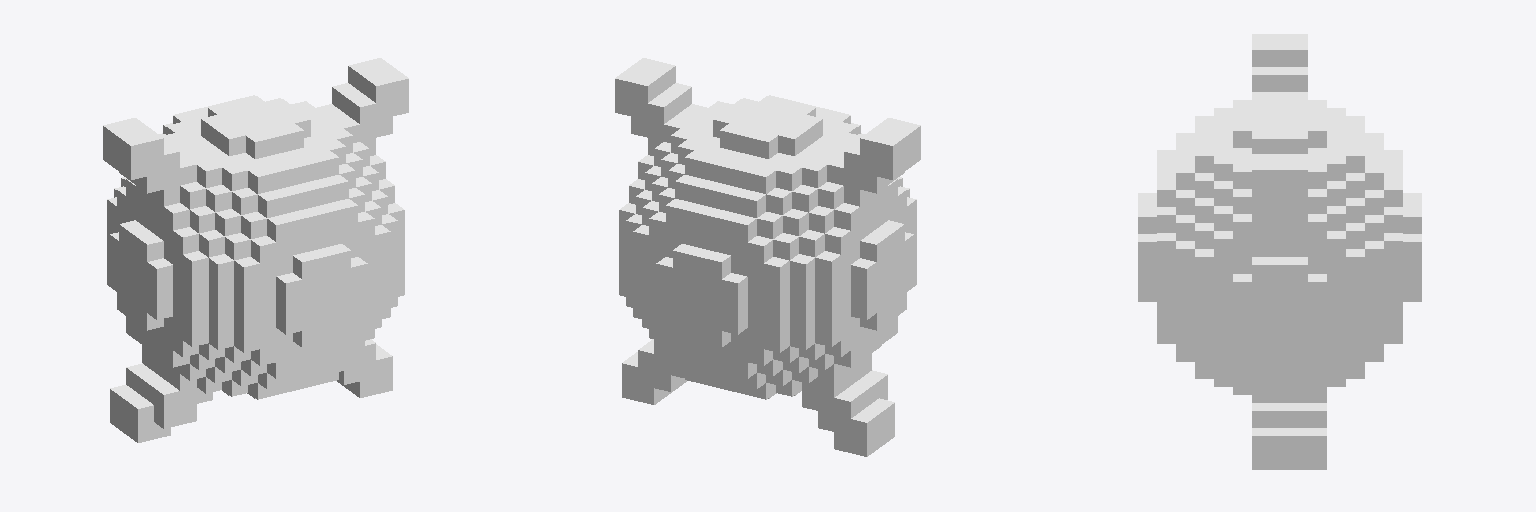
Rendered from ene-0.obj.
3 views of the same model, side by side, from view 1: azimuth 30°, elevation 25°; view 2: azimuth 150°, elevation 25°; view 3: azimuth 270°, elevation 25° (orthographic).
Visible parts, largest first — view 1: object 1; view 2: object 1; view 3: object 1.
Boxes of the visible parts, box(x1,y1,x2,y2) form: object 1: box(103, 58, 408, 442); object 1: box(615, 58, 920, 456); object 1: box(1138, 34, 1421, 469).
Size of the model in its own units: 1.7 by 1.8 by 1.5.